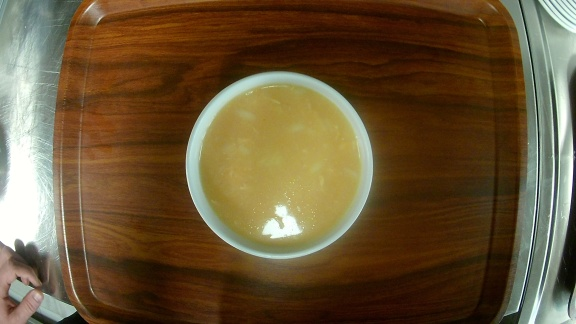tavukcorba: (181, 70, 375, 259)
